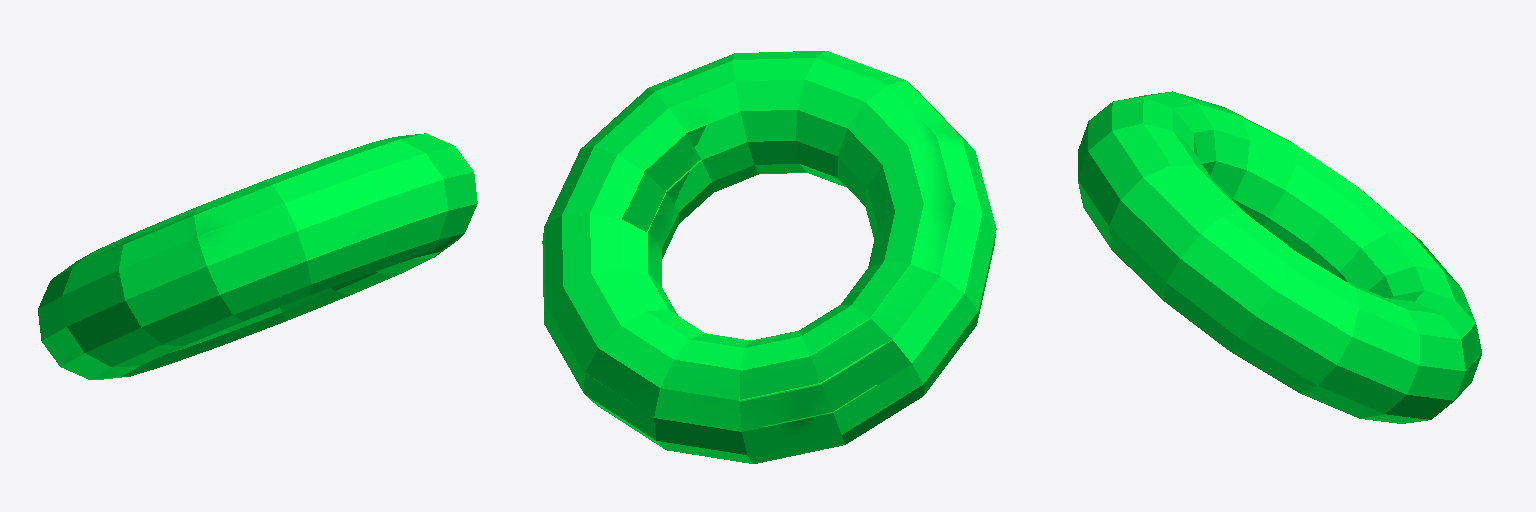
3 renders of one model, left to right at view 1: azimuth 30°, elevation 25°; view 2: azimuth 150°, elevation 25°; view 3: azimuth 270°, elevation 25°, orthographic.
Parts seen in each view (by area): view 1: Torus.000_Torus.005; view 2: Torus.000_Torus.005; view 3: Torus.000_Torus.005.
Boxes of the visible parts, x1,y1,x2,y2 form: Torus.000_Torus.005: [38, 133, 477, 379]; Torus.000_Torus.005: [542, 51, 996, 463]; Torus.000_Torus.005: [1078, 91, 1481, 423].
Bounding box in the file's own units: 3.65 × 2.5 × 3.2.
1 materials, 1 textured.